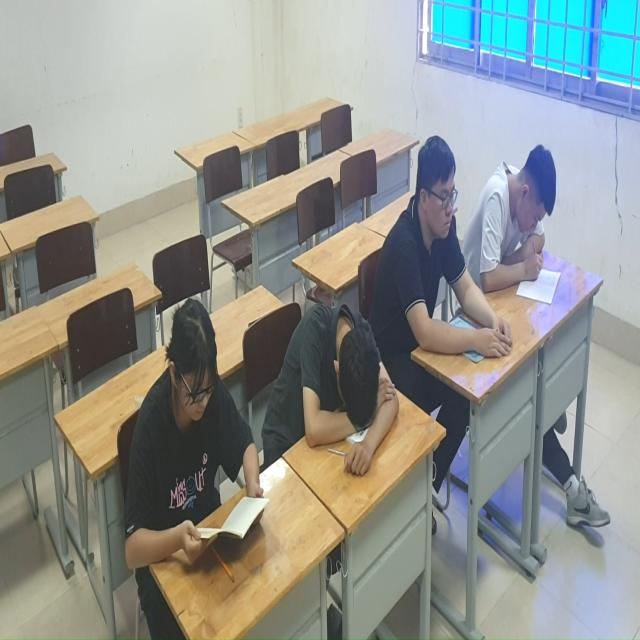read: (124, 294, 268, 581), (381, 136, 515, 370), (472, 140, 569, 317)
sleep: (273, 294, 400, 480)
